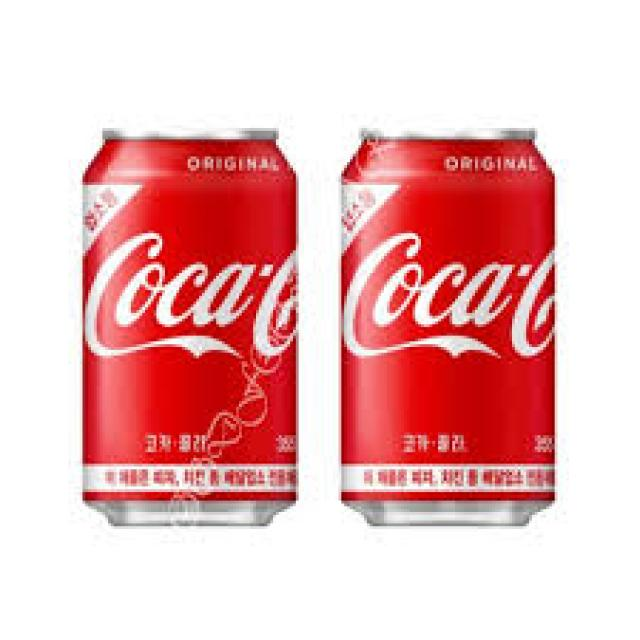Coca-Cola: (333, 110, 565, 538), (72, 115, 308, 533)
